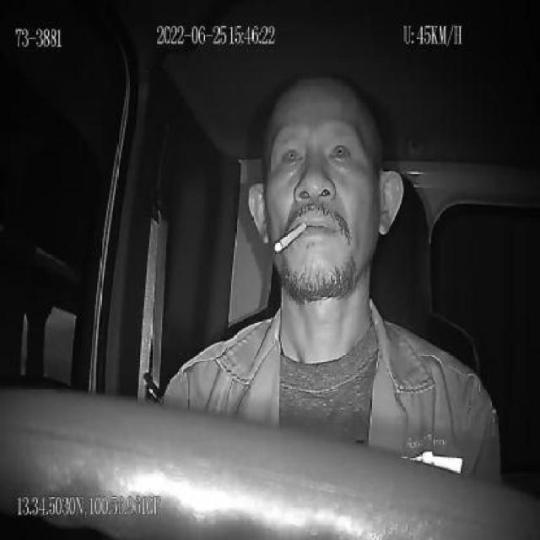smoking: (273, 222, 307, 250)
